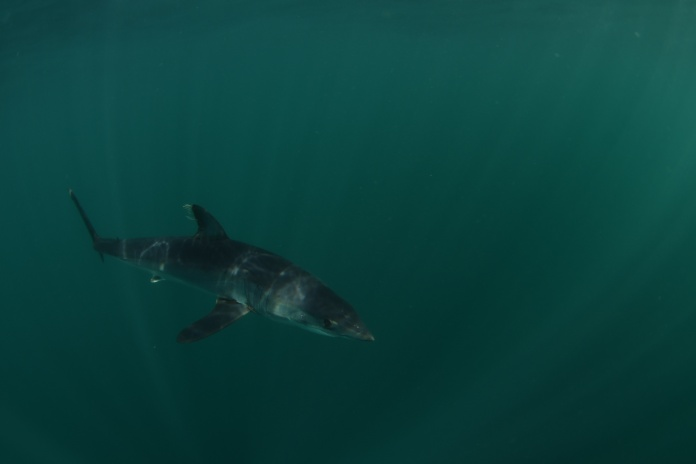Mako: (53, 177, 394, 361)
